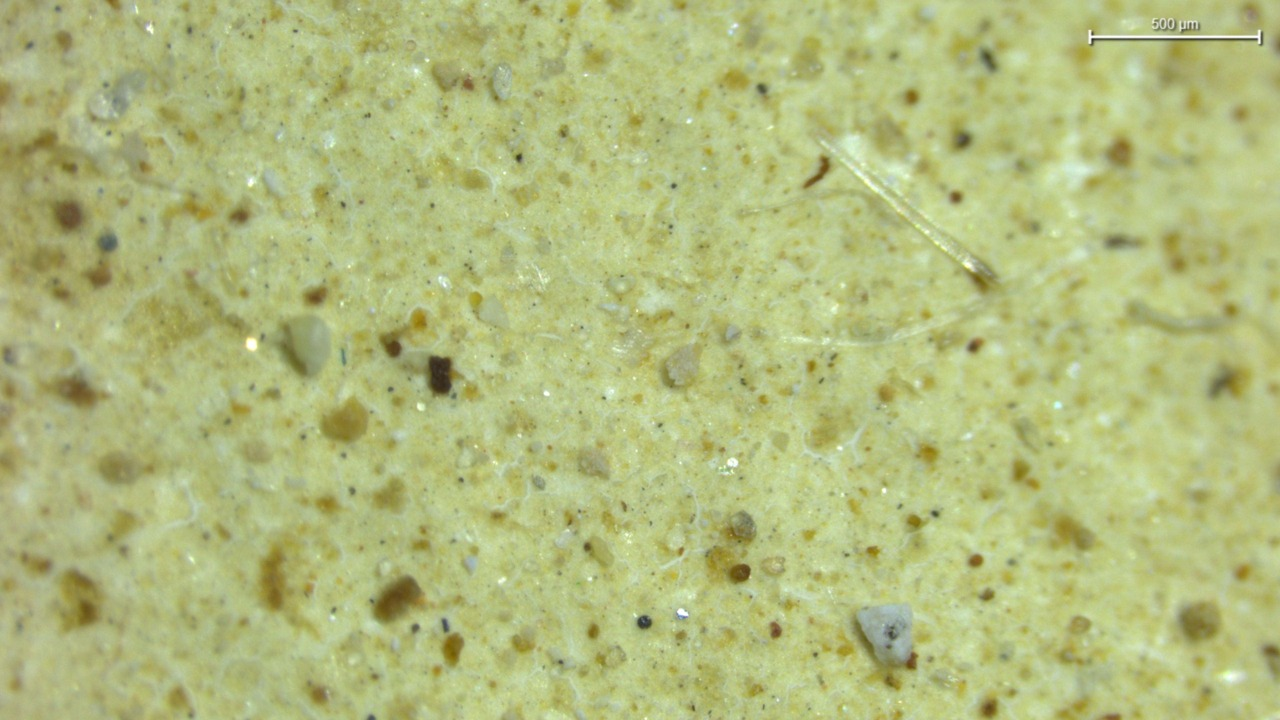microplastic_fragment: (269, 318, 332, 379), (857, 604, 914, 668), (664, 342, 703, 385), (495, 61, 513, 102)
